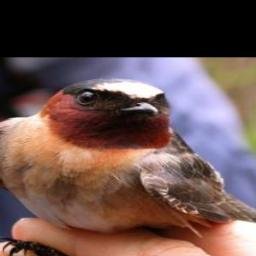Swallow: (0, 77, 256, 256)
